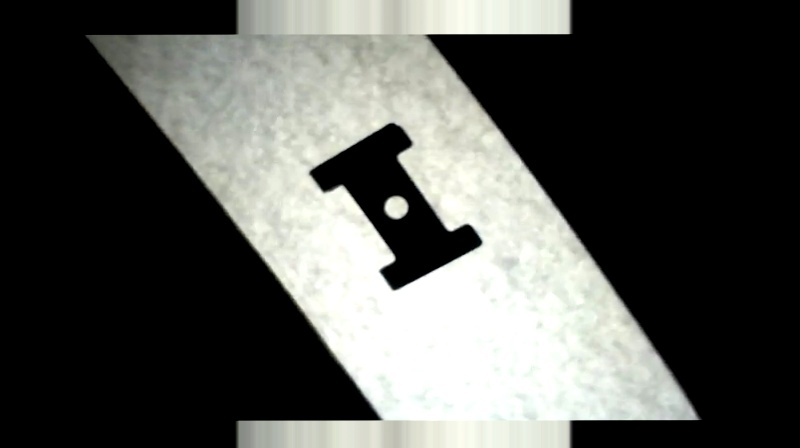O002: (305, 120, 487, 293)
